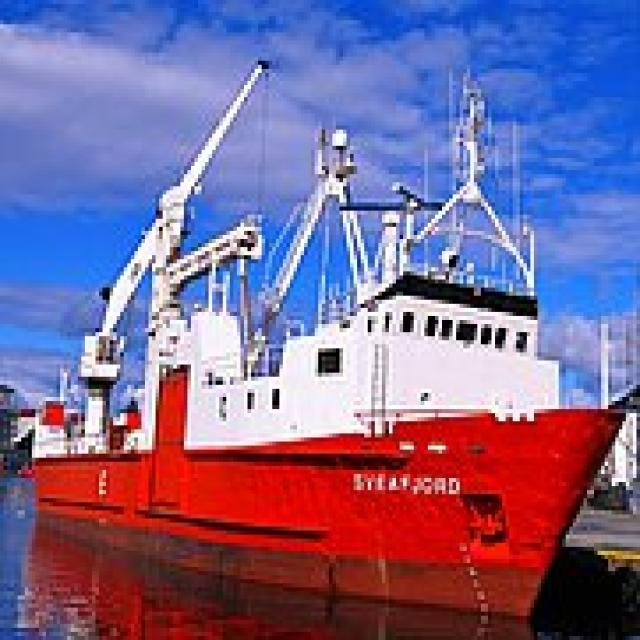Cargo: (11, 48, 622, 620)
